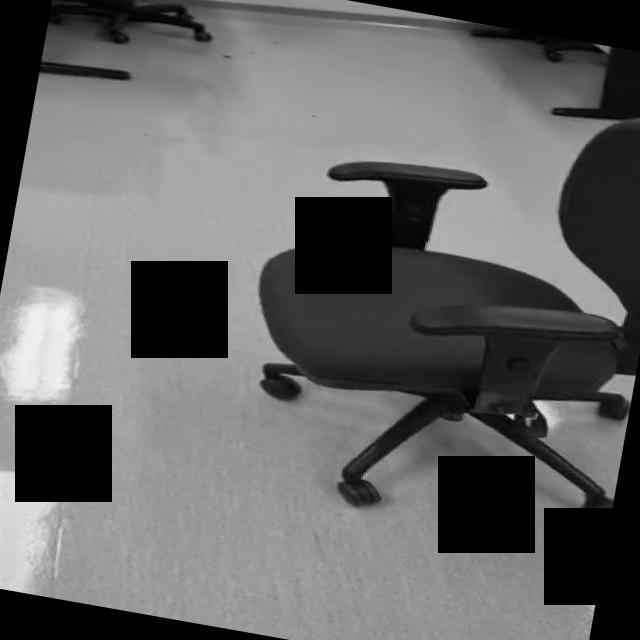chair: (221, 55, 640, 549)
